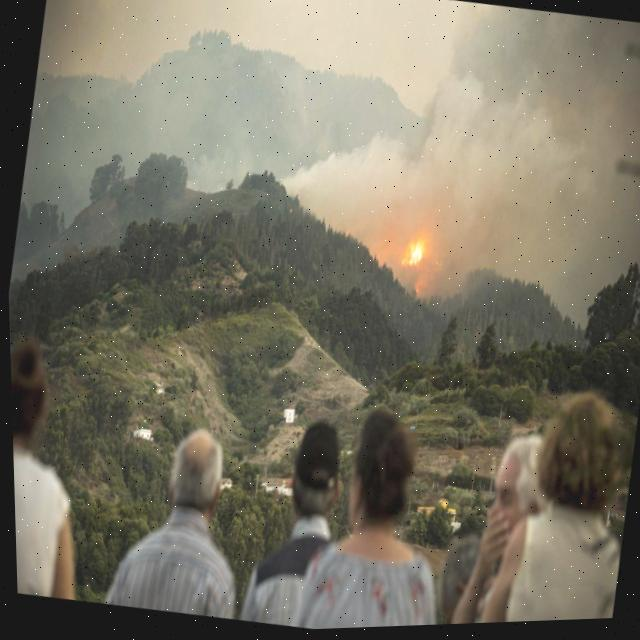fire: (400, 242, 424, 278)
smoke: (432, 24, 639, 266), (281, 98, 449, 244)
